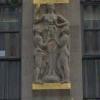Statue: (23, 3, 82, 85)
